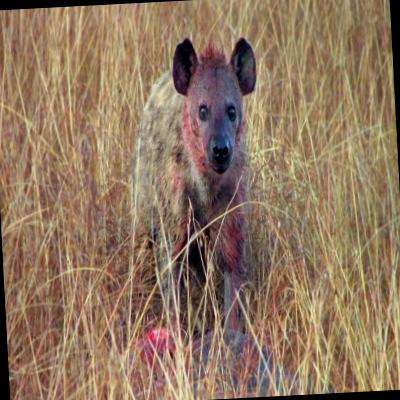hyenas: (91, 11, 314, 359)
